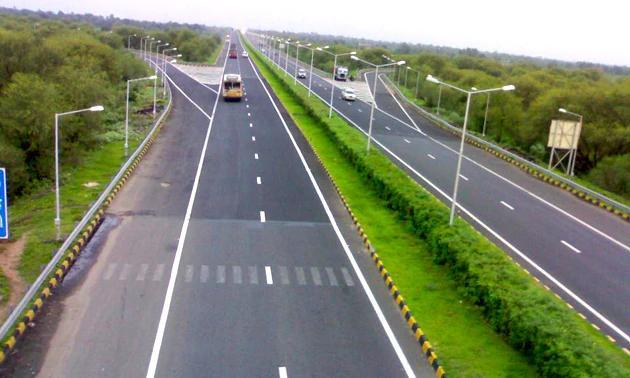car: (215, 67, 245, 105), (225, 43, 239, 63)
